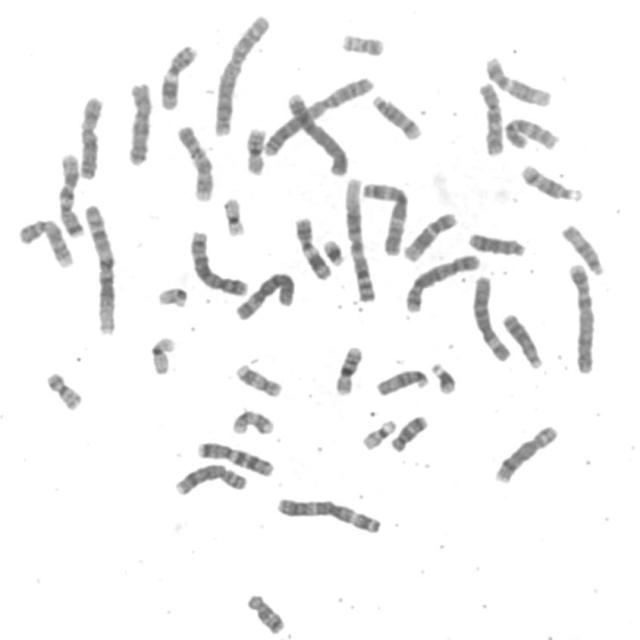A1: (79, 198, 119, 338), (339, 171, 378, 303)
A2: (258, 71, 376, 157), (208, 9, 271, 138)
A3: (270, 491, 384, 536), (357, 177, 410, 256)
B4: (282, 87, 351, 177), (564, 258, 598, 376)
B5: (400, 248, 482, 314), (184, 225, 250, 297)
C10: (473, 76, 507, 157), (500, 113, 561, 152)
C11: (154, 39, 198, 111), (290, 212, 334, 282)
C12: (480, 50, 554, 108), (398, 206, 460, 263)
C6: (468, 269, 513, 363), (230, 266, 296, 322)
C7: (192, 436, 277, 478), (52, 148, 86, 240)
C8: (489, 420, 560, 485), (170, 459, 250, 497)
C9: (171, 119, 216, 204), (14, 213, 75, 269)
D13: (498, 308, 546, 370), (464, 226, 528, 258)
D14: (516, 159, 584, 204), (367, 89, 424, 141)
D15: (556, 218, 606, 277), (372, 363, 431, 398)
E16: (329, 341, 365, 396), (240, 122, 268, 176)
E17: (230, 358, 284, 399), (228, 404, 276, 436)
E18: (241, 588, 287, 636), (385, 409, 430, 454)
F19: (145, 331, 178, 376), (218, 191, 247, 238)
F20: (41, 366, 85, 412), (336, 27, 386, 58)
G21: (426, 356, 459, 396), (318, 234, 346, 267)
G22: (357, 414, 398, 452), (152, 280, 190, 310)
X: (121, 76, 154, 167), (74, 90, 106, 181)
